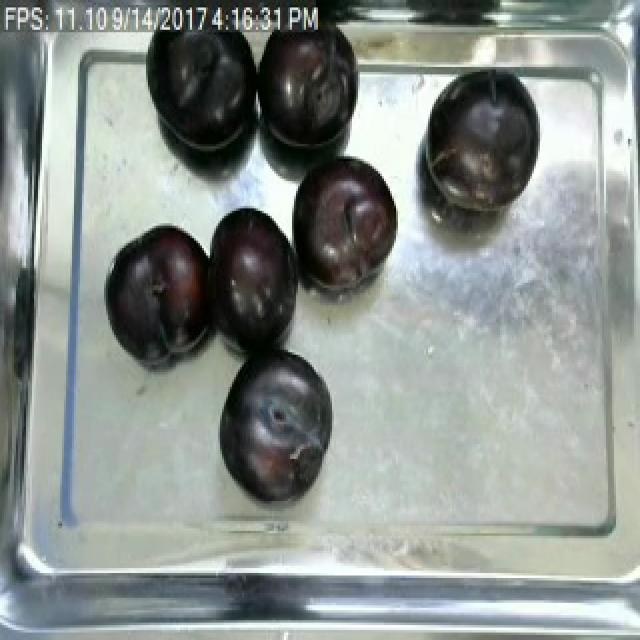Fruit: (286, 142, 410, 300), (416, 67, 542, 221), (214, 347, 334, 506), (140, 10, 262, 161), (100, 218, 214, 362), (202, 198, 298, 358)
